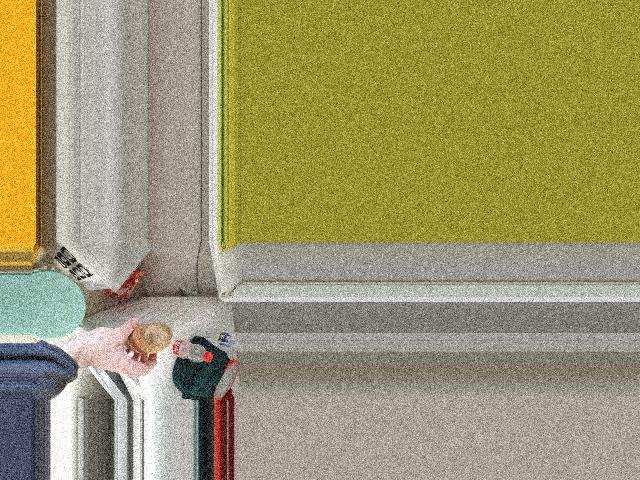sweet_potato: (121, 316, 175, 356)
